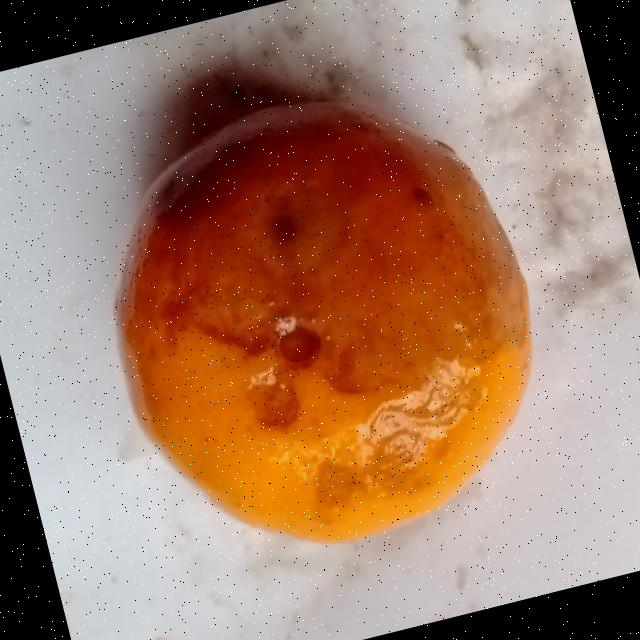Rotten: (64, 50, 576, 588)
